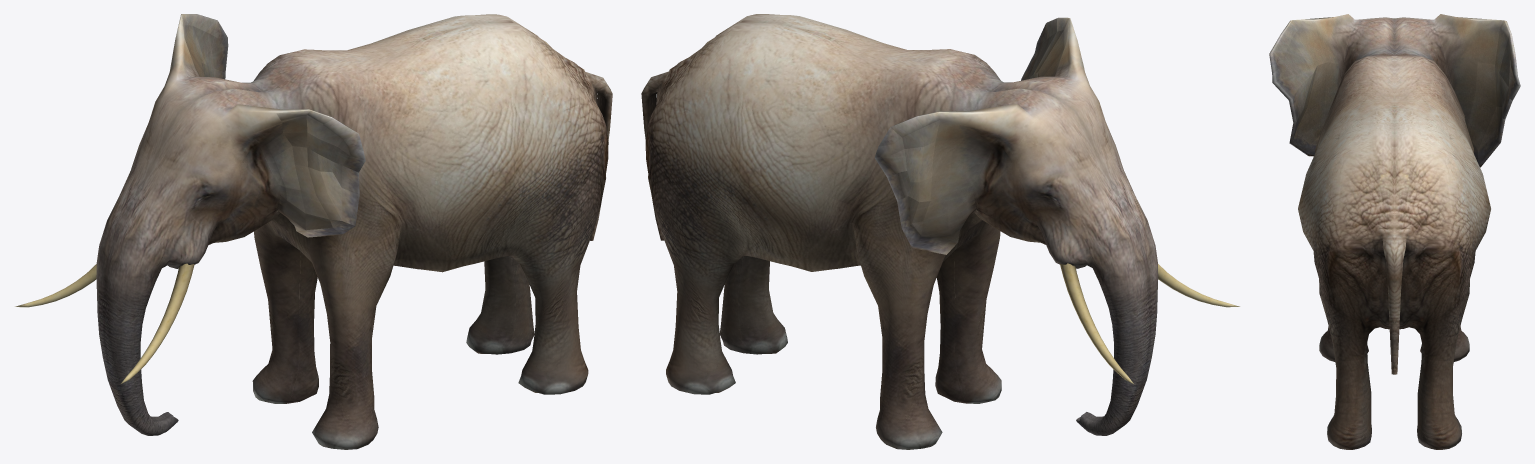
File: Gajah sumatera.fbx
3 renders of one model, left to right at view 1: azimuth 30°, elevation 25°; view 2: azimuth 150°, elevation 25°; view 3: azimuth 270°, elevation 25°, orthographic. The views are drawn at different scales.
Parts seen in each view (by area): view 1: Gajah sumatera; view 2: Gajah sumatera; view 3: Gajah sumatera.
Part boxes in pixels (<box>): Gajah sumatera: <box>15,14,612,449</box>; Gajah sumatera: <box>641,14,1239,449</box>; Gajah sumatera: <box>1269,14,1520,449</box>.
Bounding box in the file's own units: 628 × 408 × 304.
Materials: 1 (1 with a texture image).
